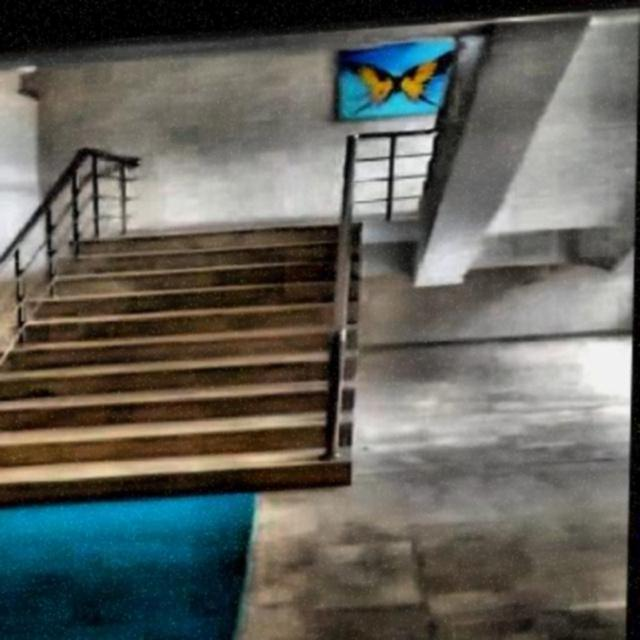stair: (2, 212, 370, 503)
